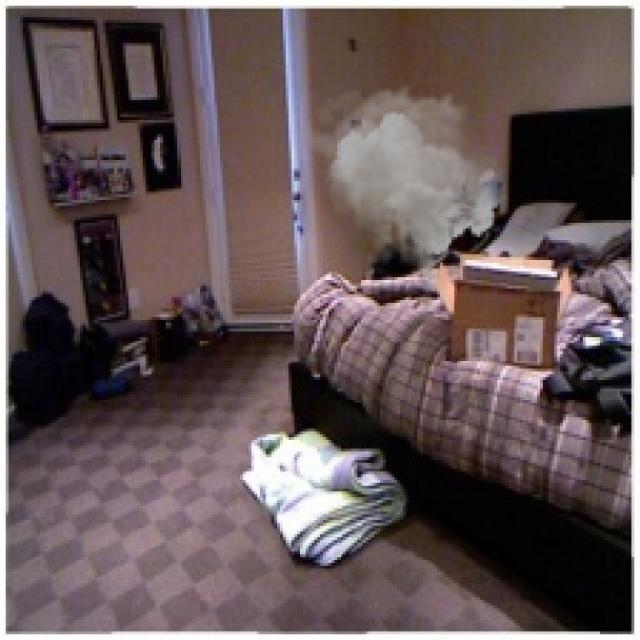Smoke: (300, 82, 506, 298)
